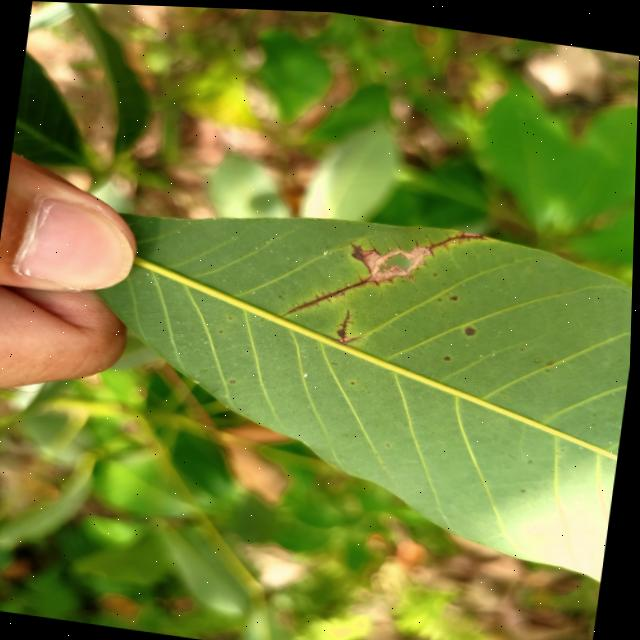Colletotrichum: (352, 379, 356, 381), (232, 378, 236, 380)
Corynespora: (288, 263, 381, 323), (424, 222, 487, 259), (336, 305, 367, 344)
Leaf-Blight: (360, 235, 433, 288)
